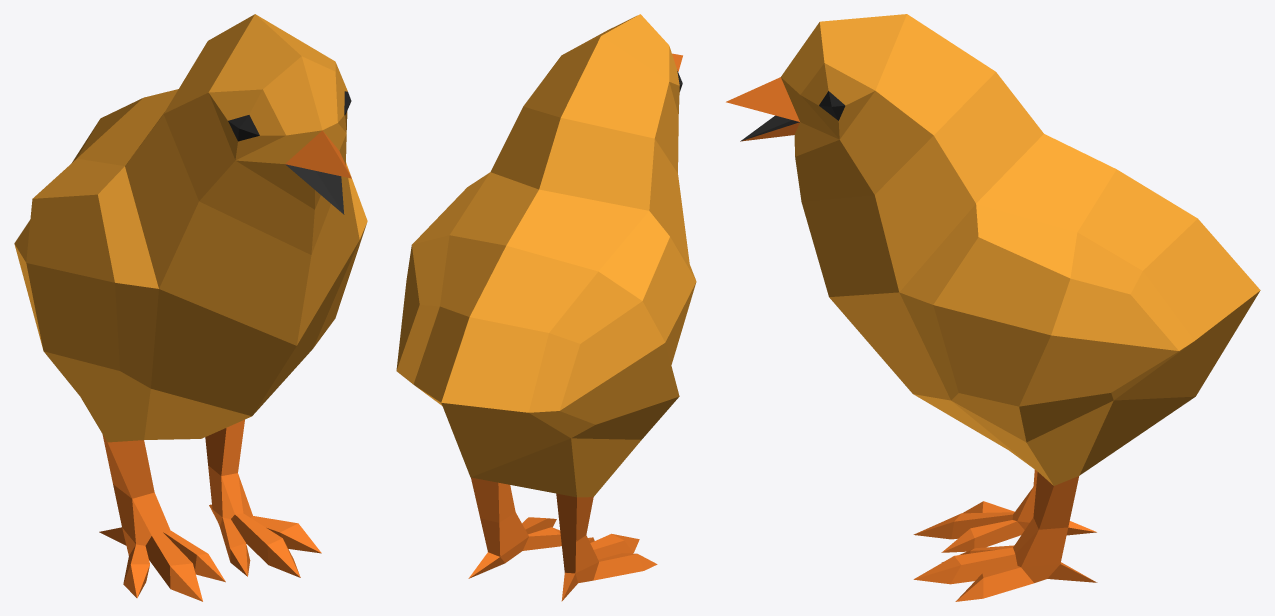
Rendered from animals_chick.fbx.
3 renders of one model, left to right at view 1: azimuth 30°, elevation 25°; view 2: azimuth 150°, elevation 25°; view 3: azimuth 270°, elevation 25°, orthographic. The views are drawn at different scales.
Parts seen in each view (by area): view 1: animals_chick; view 2: animals_chick; view 3: animals_chick.
Boxes of the visible parts, x1,y1,x2,y2 form: animals_chick: (14,14,367,601); animals_chick: (396,14,696,601); animals_chick: (726,14,1260,601).
Size of the model in its own units: 110 by 200 by 178.
